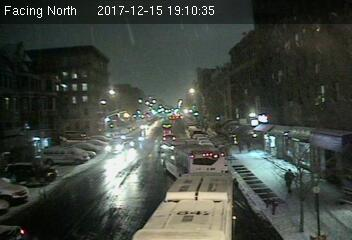bus: (160, 140, 228, 187)
car: (105, 141, 124, 152), (162, 134, 177, 141)
